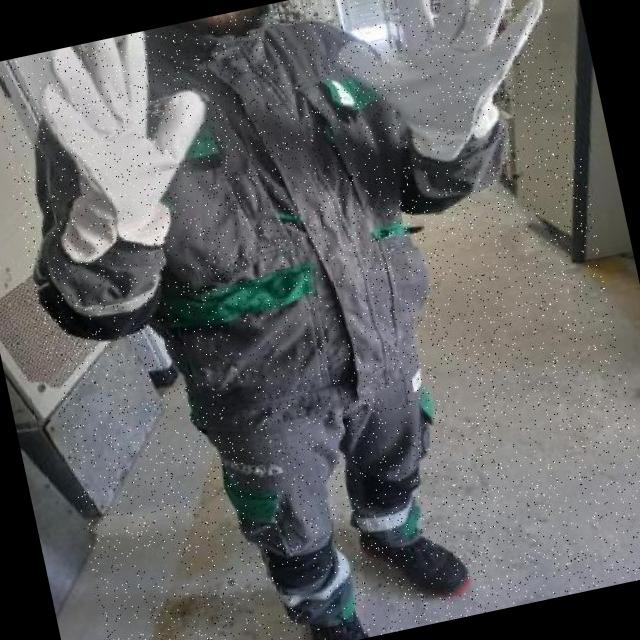vehicle: (0, 0, 640, 640)
work_boots: (358, 505, 478, 616)
